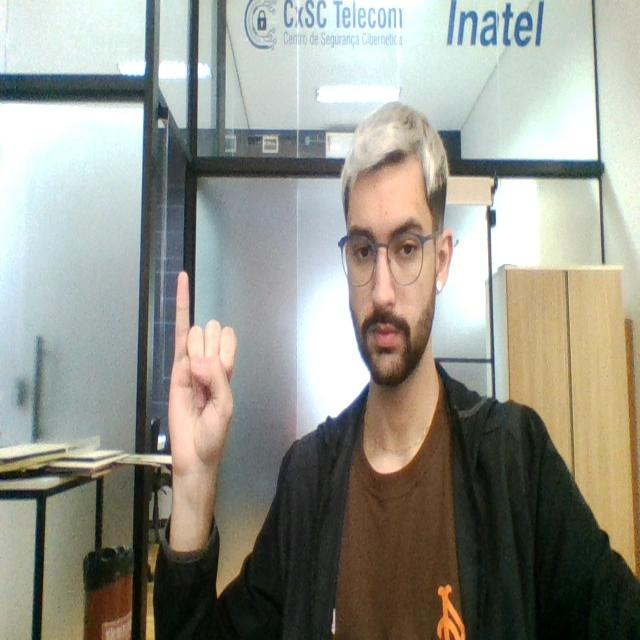I: (166, 260, 240, 496)
